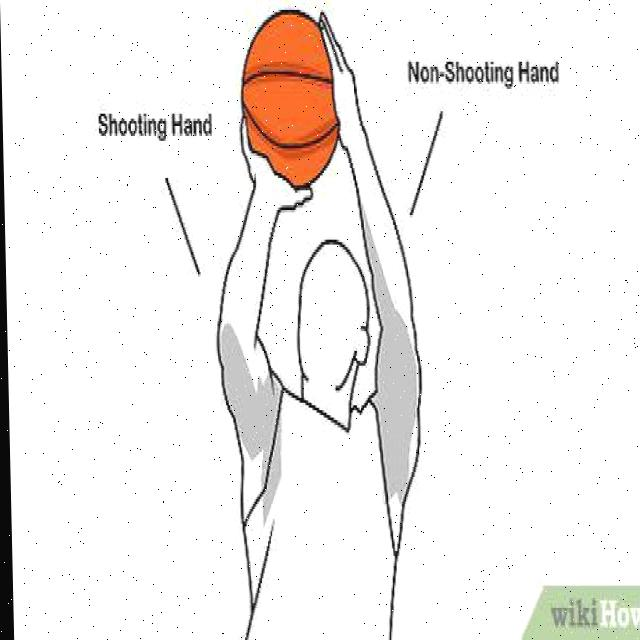Basketball: (240, 8, 342, 190)
